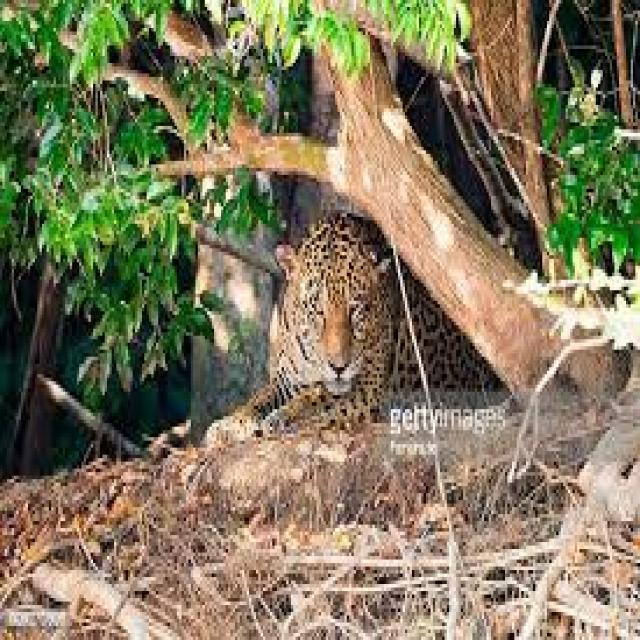Jaguar: (212, 213, 493, 430)
